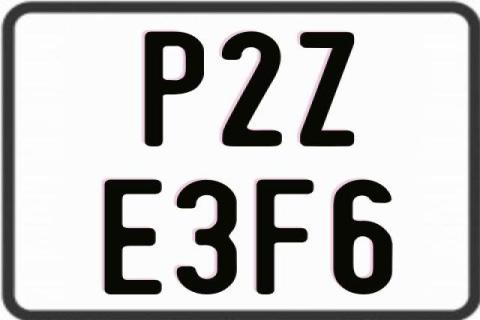0: (174, 177, 239, 293), (333, 177, 397, 293), (222, 29, 283, 145)
E: (104, 178, 168, 294)
F: (256, 179, 317, 295)
P: (142, 31, 201, 147)
Z: (298, 32, 354, 151)
